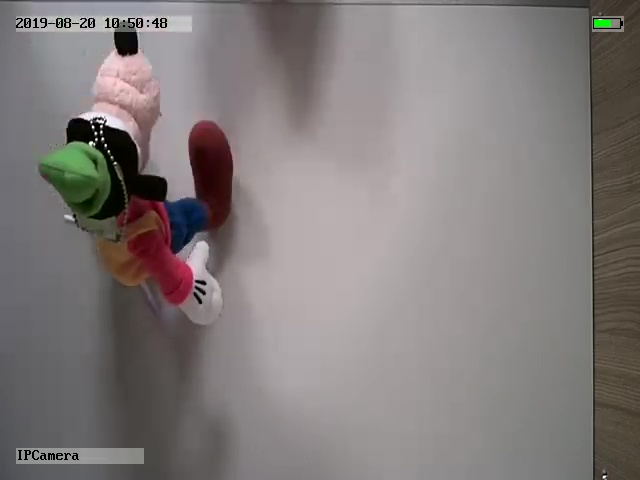goofy: (38, 21, 234, 326)
